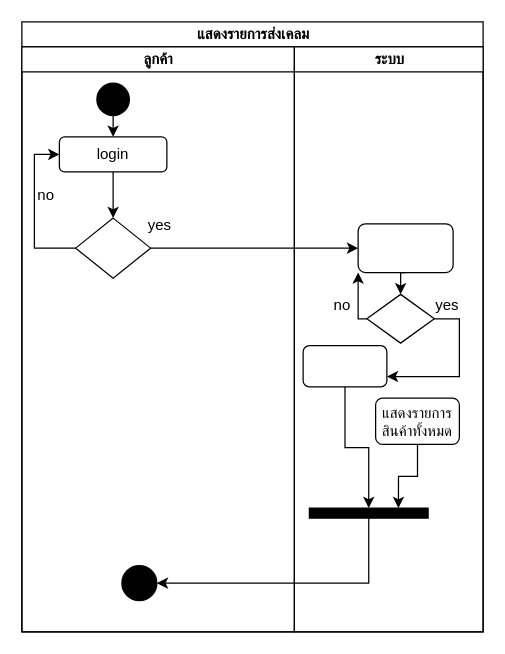
Image size: 505x654. Some labels were removed from this diagram. Here are the shapes that lost their labels. From the top down, the box of each, then its label:
(357, 222, 453, 272): ค้นหารายการสินค้า
(302, 344, 387, 387): แสดงรายการสินค้า
